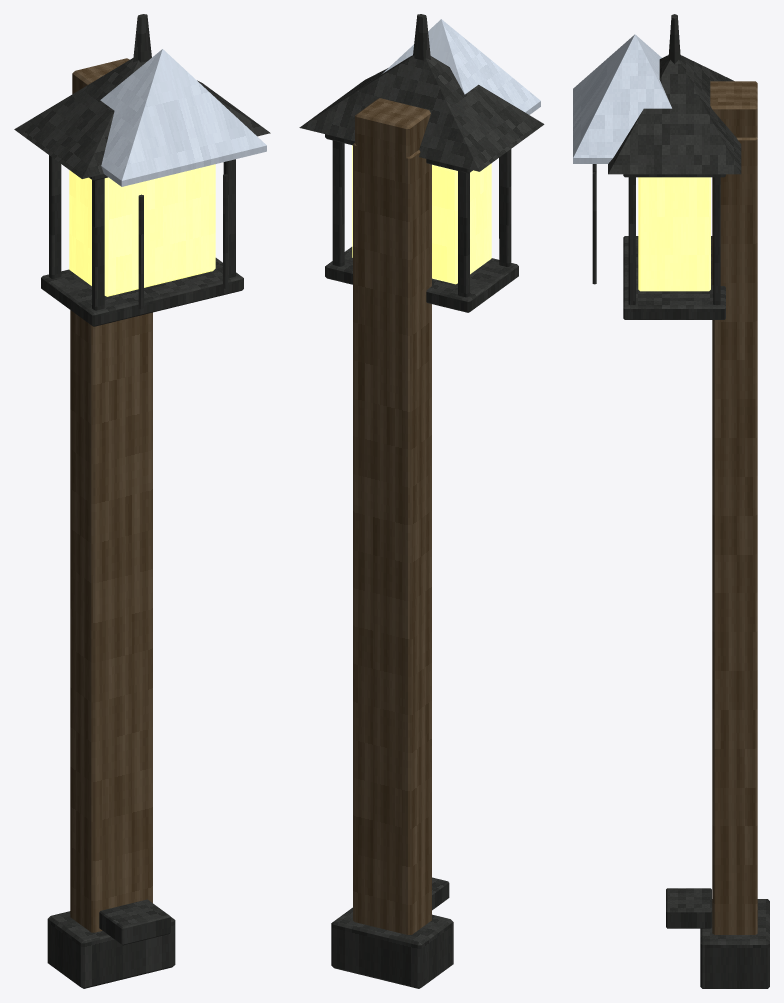
File: timber_lantern.glb
3 renders of one model, left to right at view 1: azimuth 30°, elevation 25°; view 2: azimuth 150°, elevation 25°; view 3: azimuth 270°, elevation 25°, orthographic. The views are drawn at different scales.
Parts seen in each view (by area): view 1: timber_lantern; view 2: timber_lantern; view 3: timber_lantern.
Boxes of the visible parts, x1,y1,x2,y2 form: timber_lantern: [14, 14, 270, 988]; timber_lantern: [299, 14, 544, 988]; timber_lantern: [573, 14, 769, 988].
Size of the model in its own units: 0.65 by 3.2 by 0.6.
Materials: 4 (4 with a texture image).
